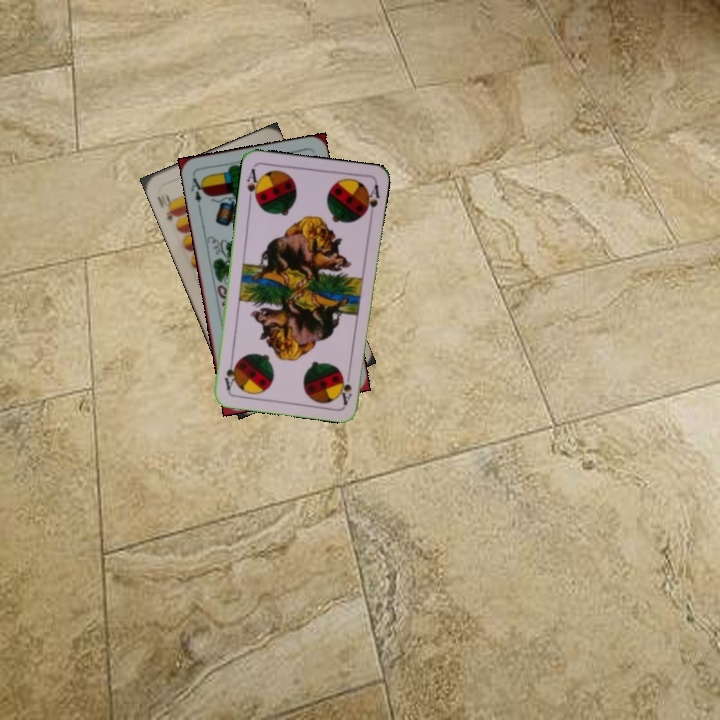E10: (153, 190, 180, 225)
EA: (187, 171, 208, 205)
SA: (242, 164, 263, 205), (337, 366, 355, 407)
